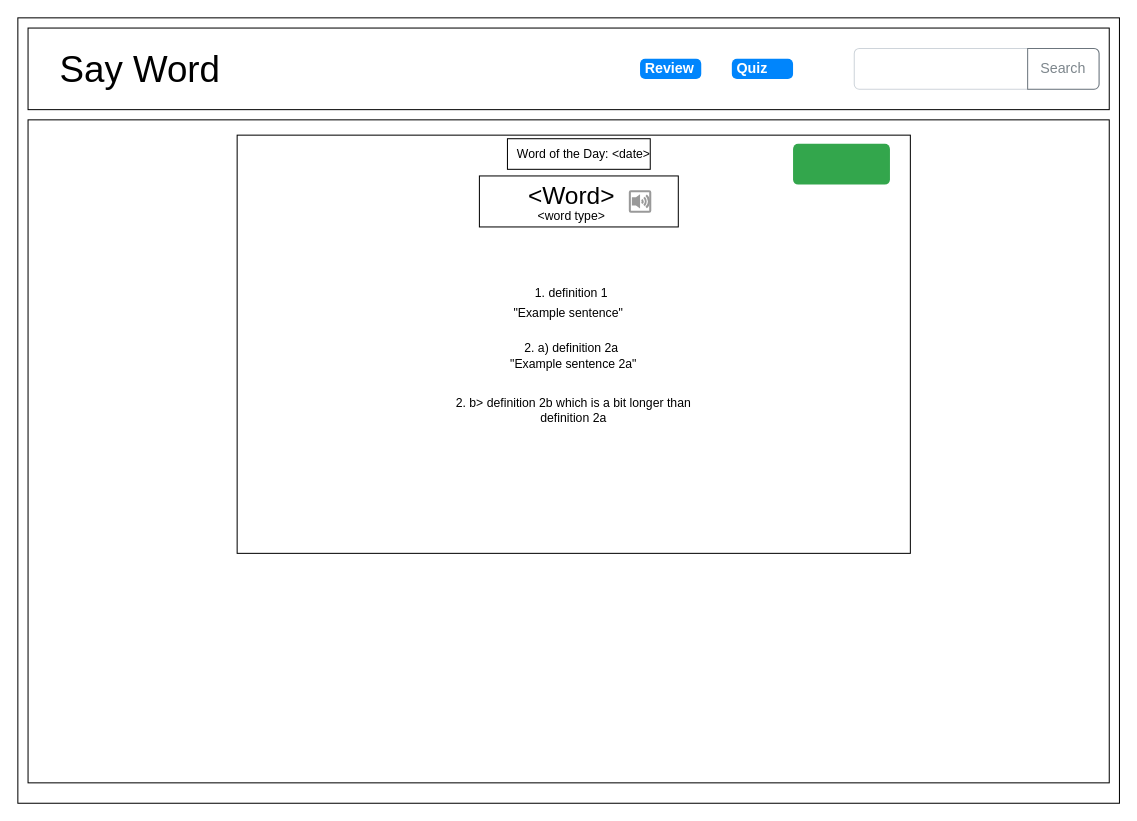
Image size: 1137x821. Some labels were removed from this diagram. Here are the shapes that lost their labels. From the top down, the centre of each, then its label:
At point (976, 68): "Search for word".
At point (841, 163): "Add Word".
